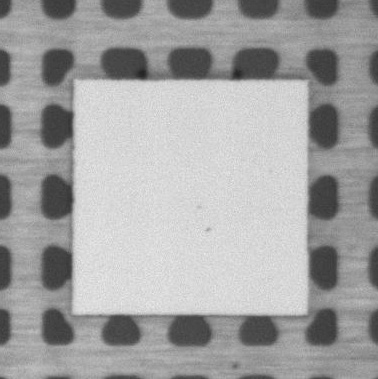DIE_INK: (204, 225, 213, 235)
